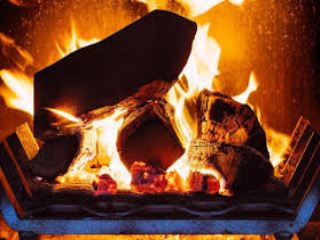fire: (6, 11, 291, 189)
